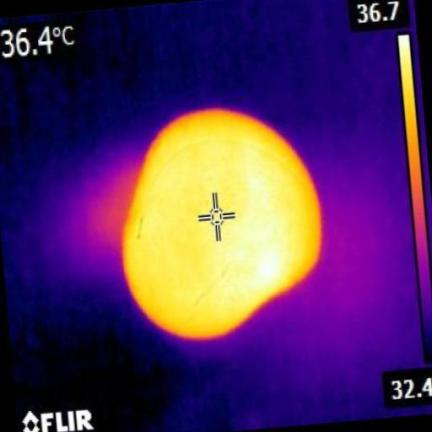mango: (122, 108, 321, 336)
